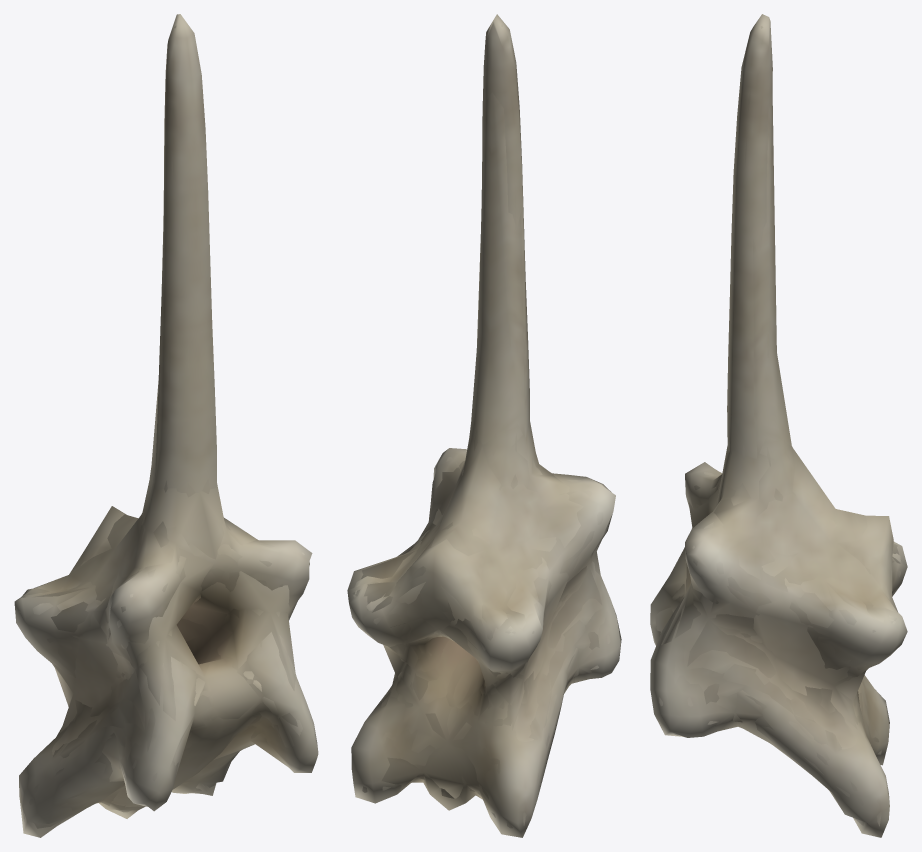
The model's file is vertebra cervicalis 7.fbx.
3 renders of one model, left to right at view 1: azimuth 30°, elevation 25°; view 2: azimuth 150°, elevation 25°; view 3: azimuth 270°, elevation 25°, orthographic. The views are drawn at different scales.
Visible parts, largest first — view 1: vertebra cervicalis 7, vertebra cervicalis 7 low, vertebra cervicalis 7 high; view 2: vertebra cervicalis 7 low, vertebra cervicalis 7, vertebra cervicalis 7 high; view 3: vertebra cervicalis 7, vertebra cervicalis 7 low, vertebra cervicalis 7 high.
Boxes of the visible parts, x1=… form: vertebra cervicalis 7: x1=14, y1=14, x2=318, y2=837; vertebra cervicalis 7 low: x1=24, y1=232, x2=302, y2=828; vertebra cervicalis 7 high: x1=19, y1=25, x2=315, y2=828; vertebra cervicalis 7 low: x1=352, y1=92, x2=602, y2=799; vertebra cervicalis 7: x1=347, y1=14, x2=621, y2=837; vertebra cervicalis 7 high: x1=353, y1=24, x2=619, y2=828; vertebra cervicalis 7: x1=650, y1=14, x2=907, y2=837; vertebra cervicalis 7 low: x1=655, y1=91, x2=901, y2=781; vertebra cervicalis 7 high: x1=656, y1=25, x2=900, y2=826.
Size of the model in its own units: 0.8685 by 3.41 by 1.02.
1 material, 1 textured.
